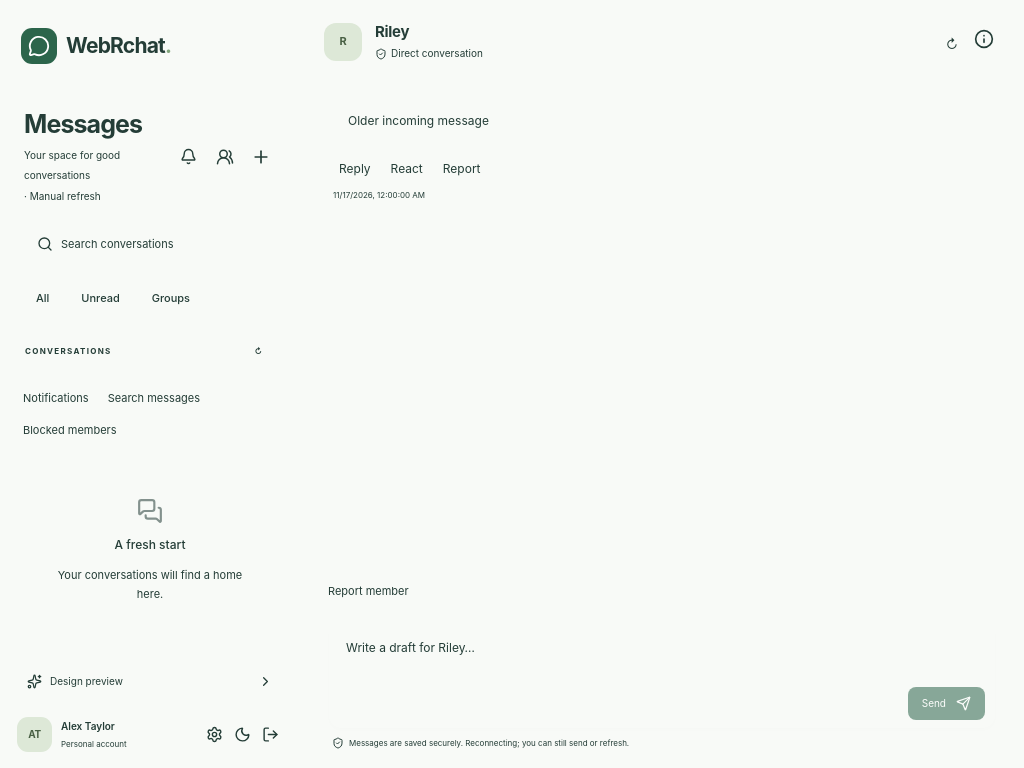
does not jump to new messages when the reader has scrolled up
Expected: the text "Older incoming message" is shown, [348,113,489,128]
Click the button named "Refresh messages" at (952, 44), box [936,28,968,60]
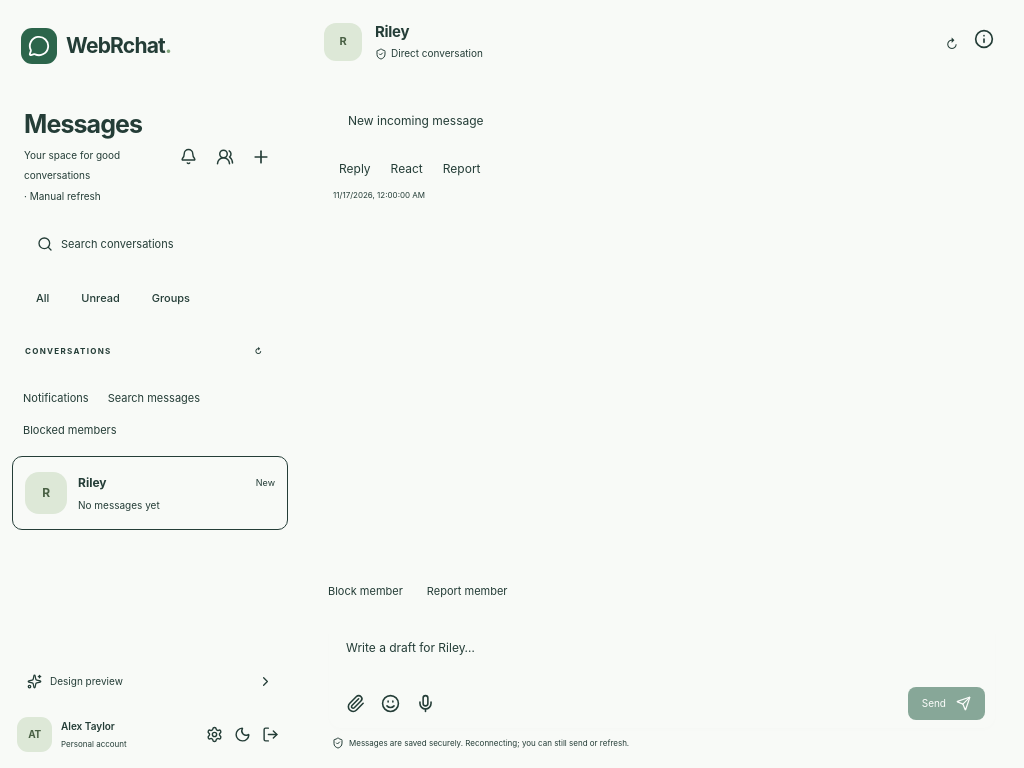
Now the text "New incoming message" is shown, box [348,113,484,128]
